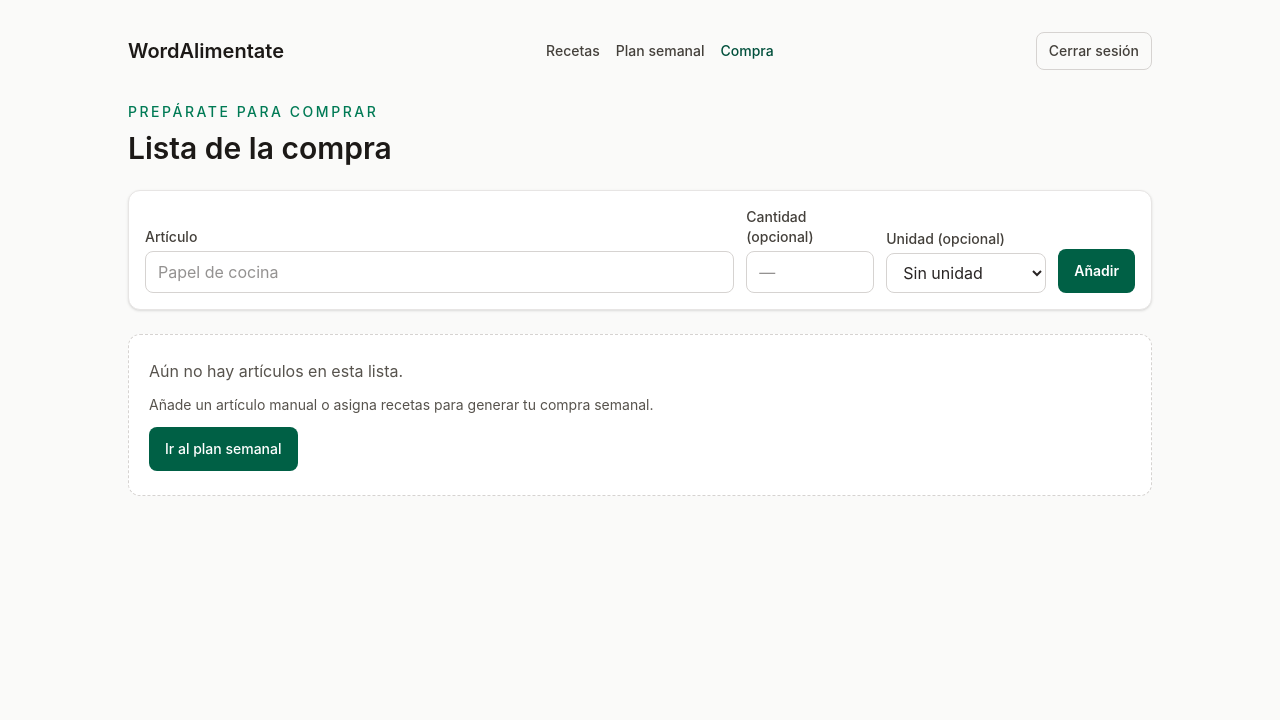
Test: weekly planner › shopping list › rebuilds the list from the current plan when revisiting the shopping list
expect the text "Aún no hay artículos en esta lista." is shown: met, box [149, 359, 403, 383]
Click the link "Plan semanal" at (660, 51), box [616, 41, 704, 61]
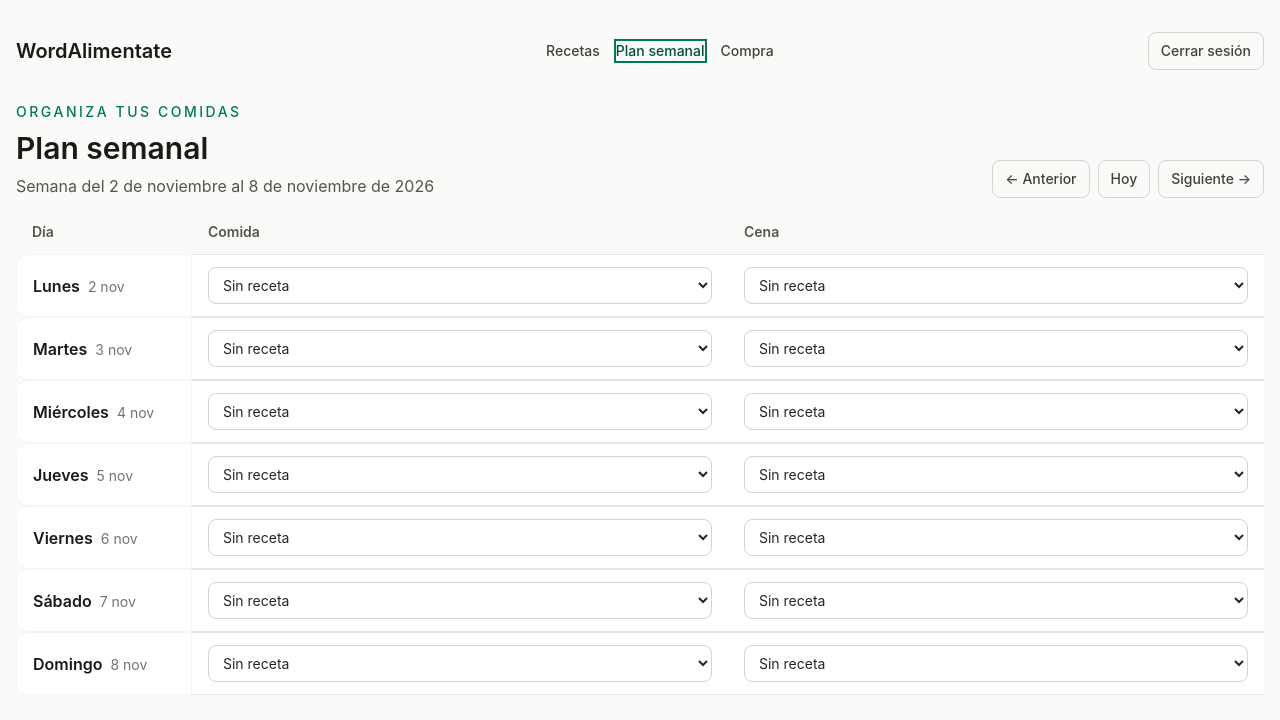
Select "Sopa de prueba" in the dropdown named "Receta para Comida del Lunes" at (460, 286), box [208, 267, 712, 304]
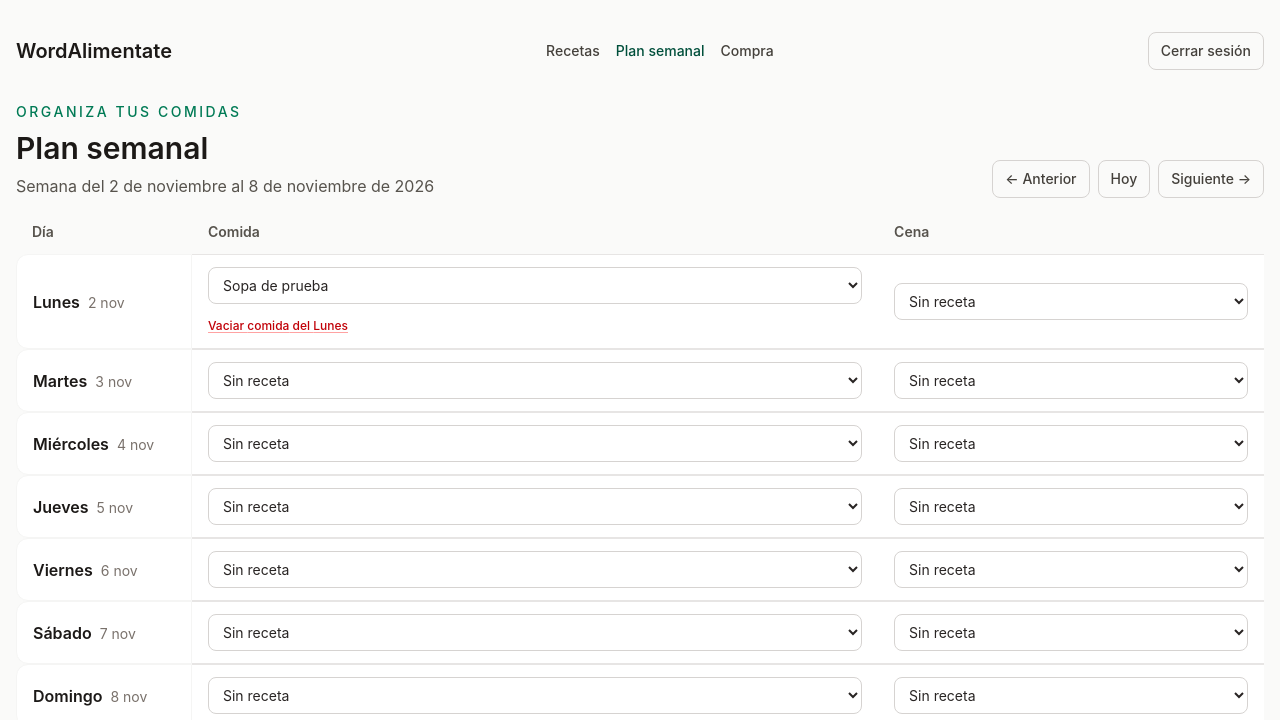
Click the link "Compra" at (747, 51), box [720, 41, 774, 61]
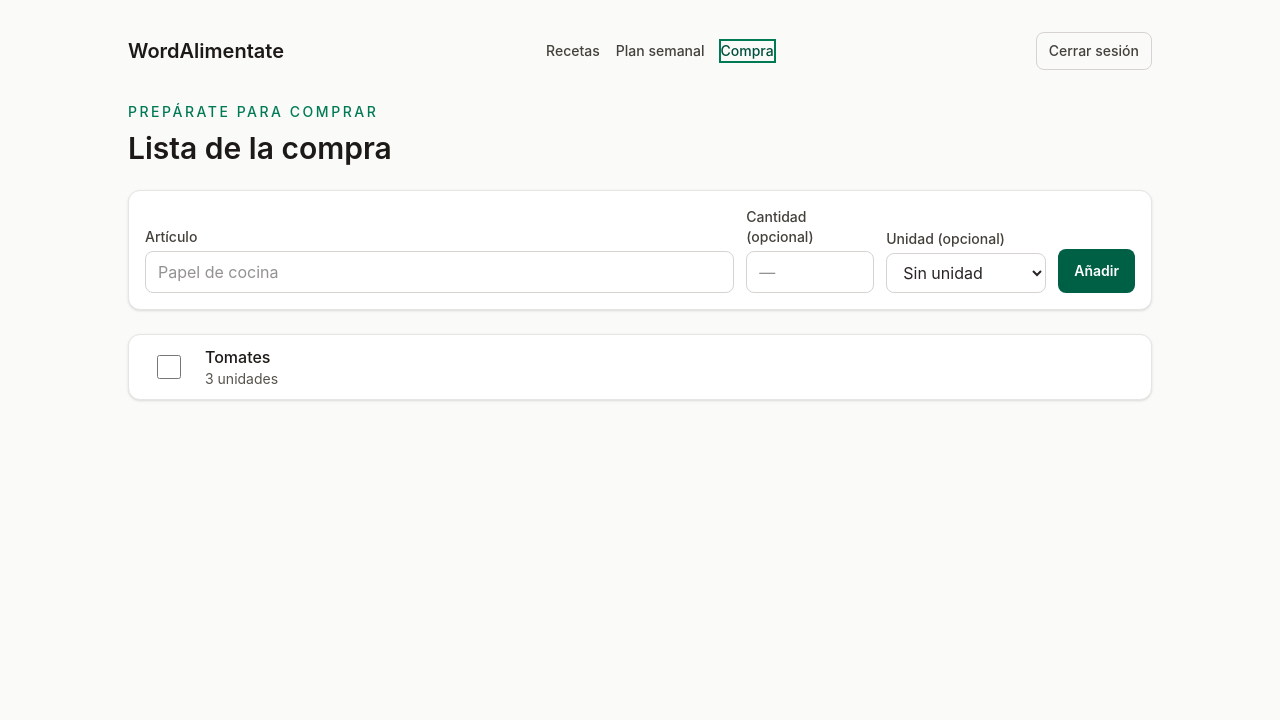
expect the text "Tomates" is shown: met, box [205, 347, 270, 367]
expect the text "3 unidades" is shown: met, box [205, 370, 278, 387]
Click the link "Plan semanal" at (660, 51), box [616, 41, 704, 61]
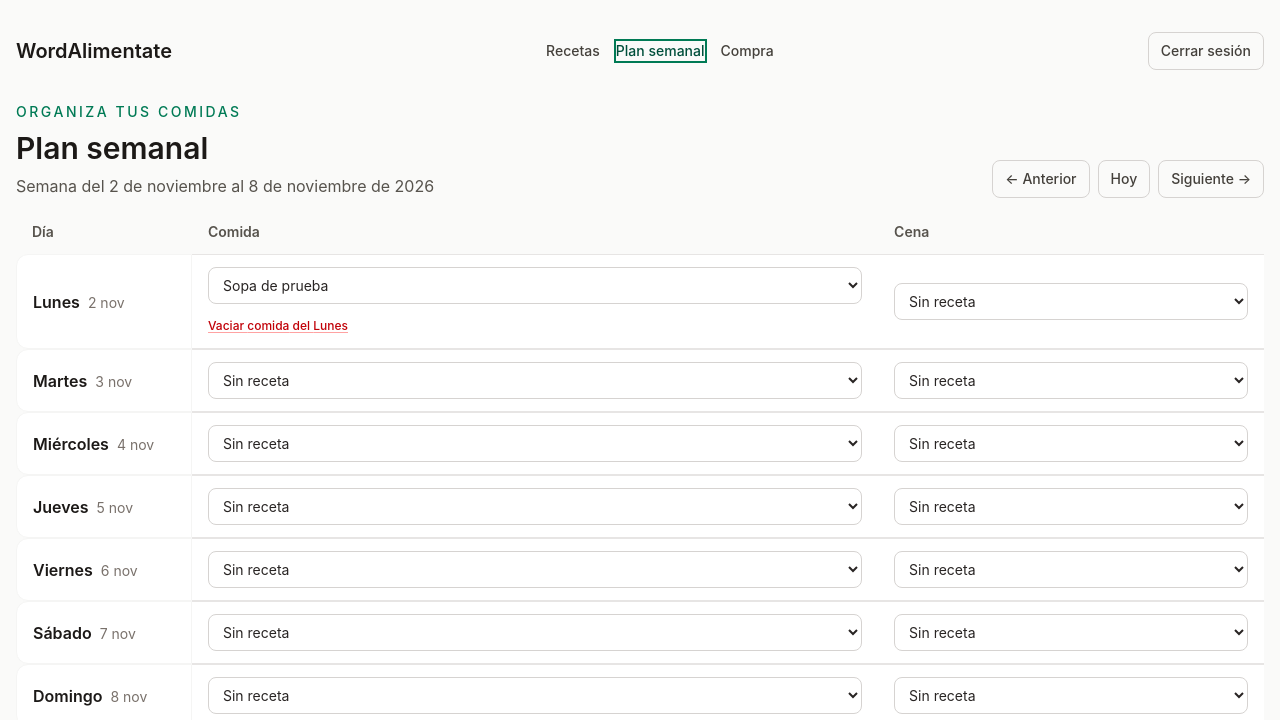
Click the button "Vaciar comida del Lunes" at (278, 326), box [208, 318, 348, 334]
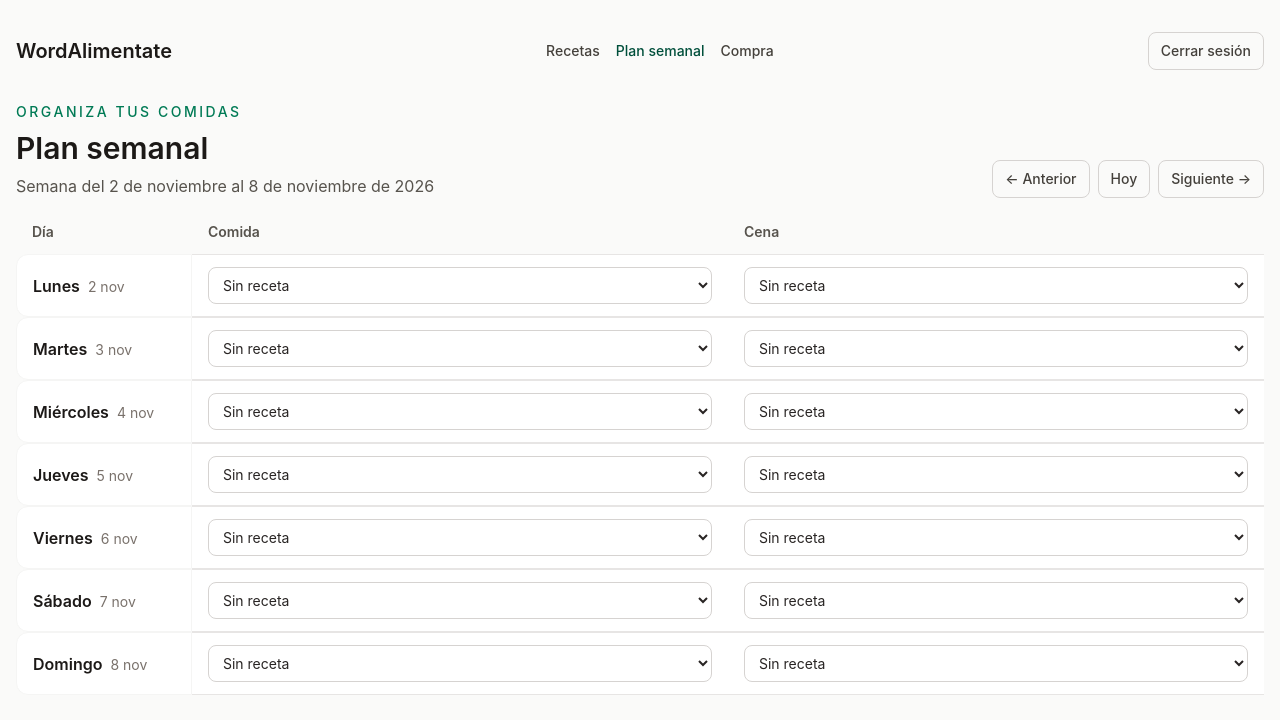
Click the link "Compra" at (747, 51), box [720, 41, 774, 61]
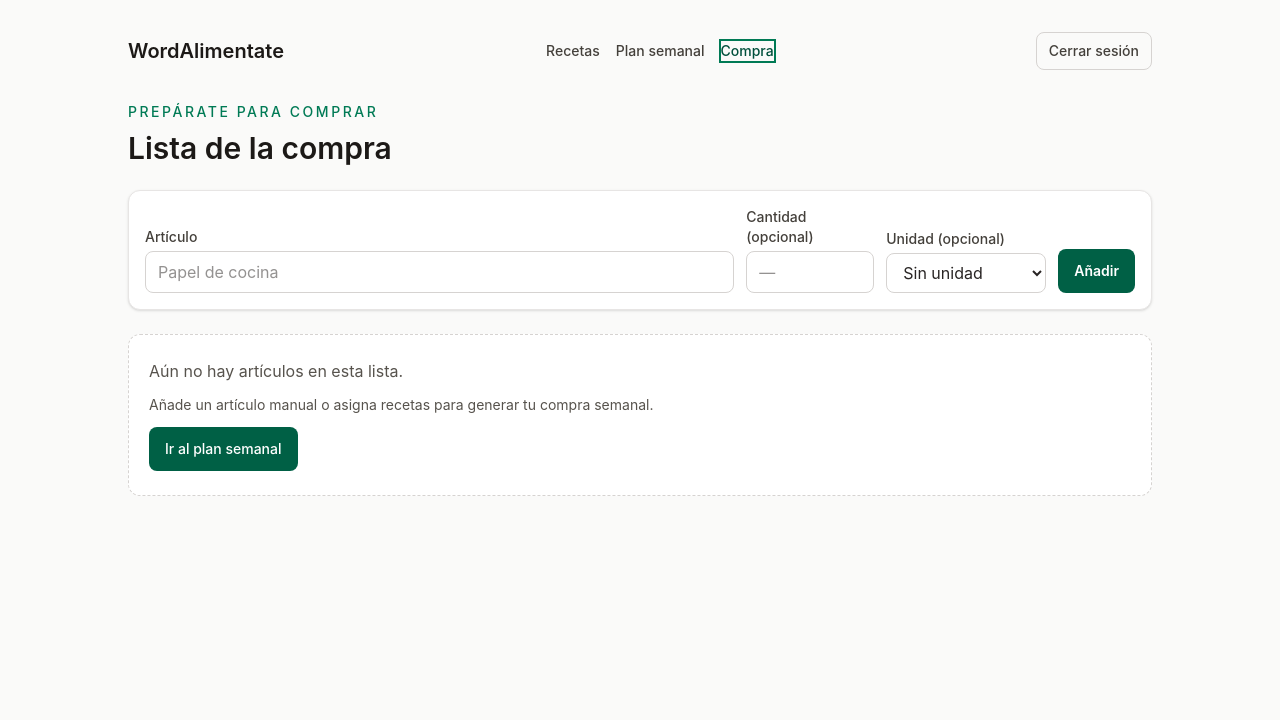
expect the text "Aún no hay artículos en esta lista." is shown: met, box [149, 359, 403, 383]
